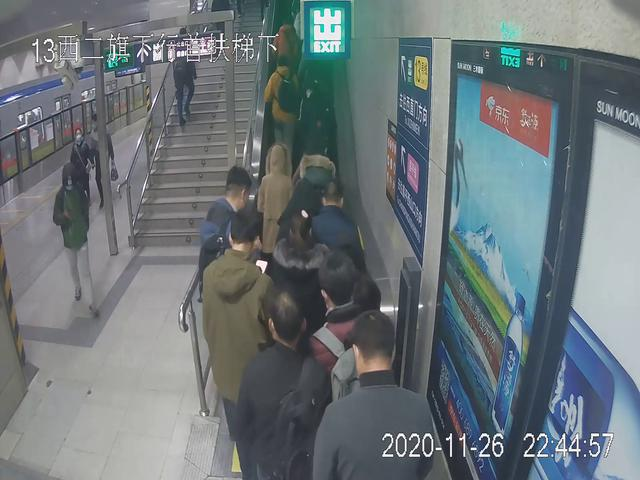person: (200, 208, 290, 479), (227, 288, 348, 474), (305, 305, 432, 480), (49, 160, 110, 320), (311, 181, 368, 306), (261, 54, 305, 160), (172, 25, 198, 126), (68, 126, 97, 215)
